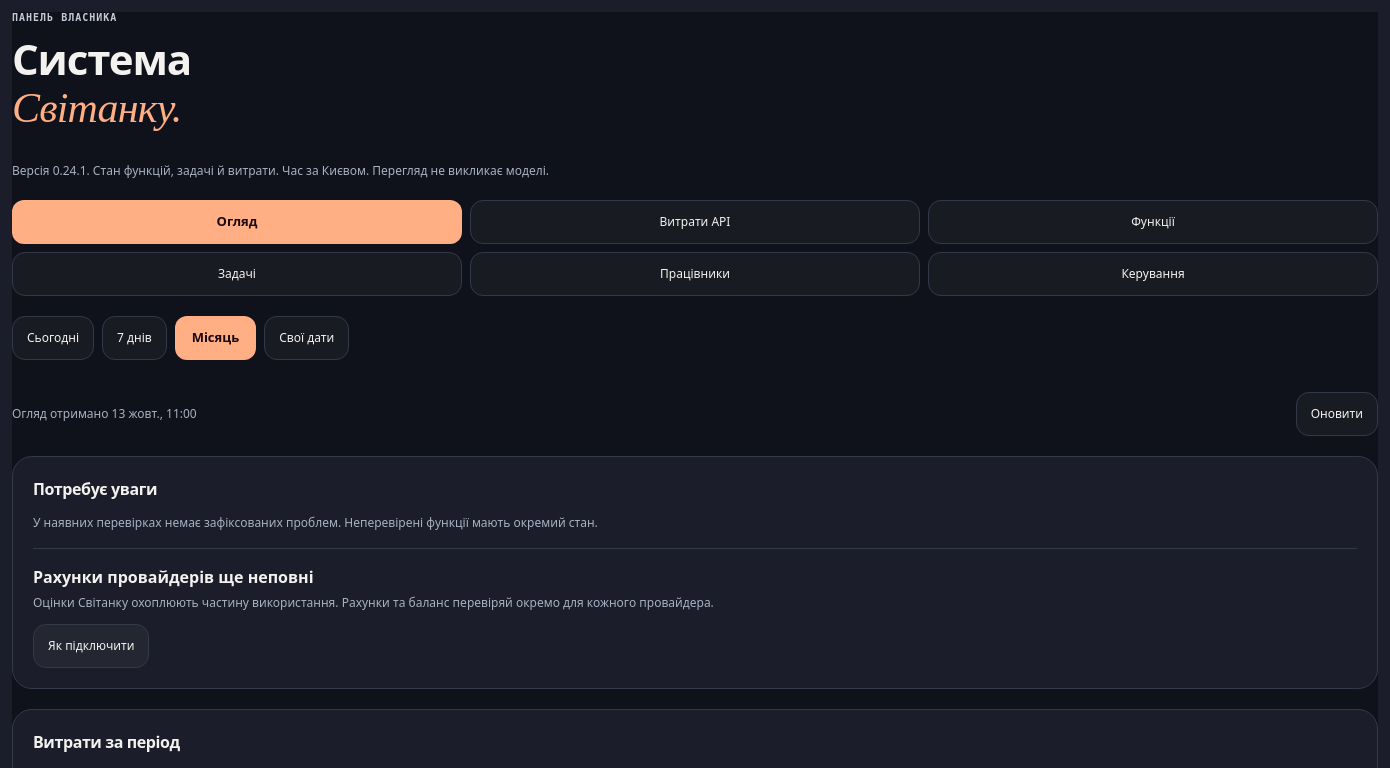
shows unavailable sections and unknown costs without fabricating zero balances
This screenshot has width=1390, height=768.
Click the button "Витрати API" at (695, 222), box [470,200,920,244]
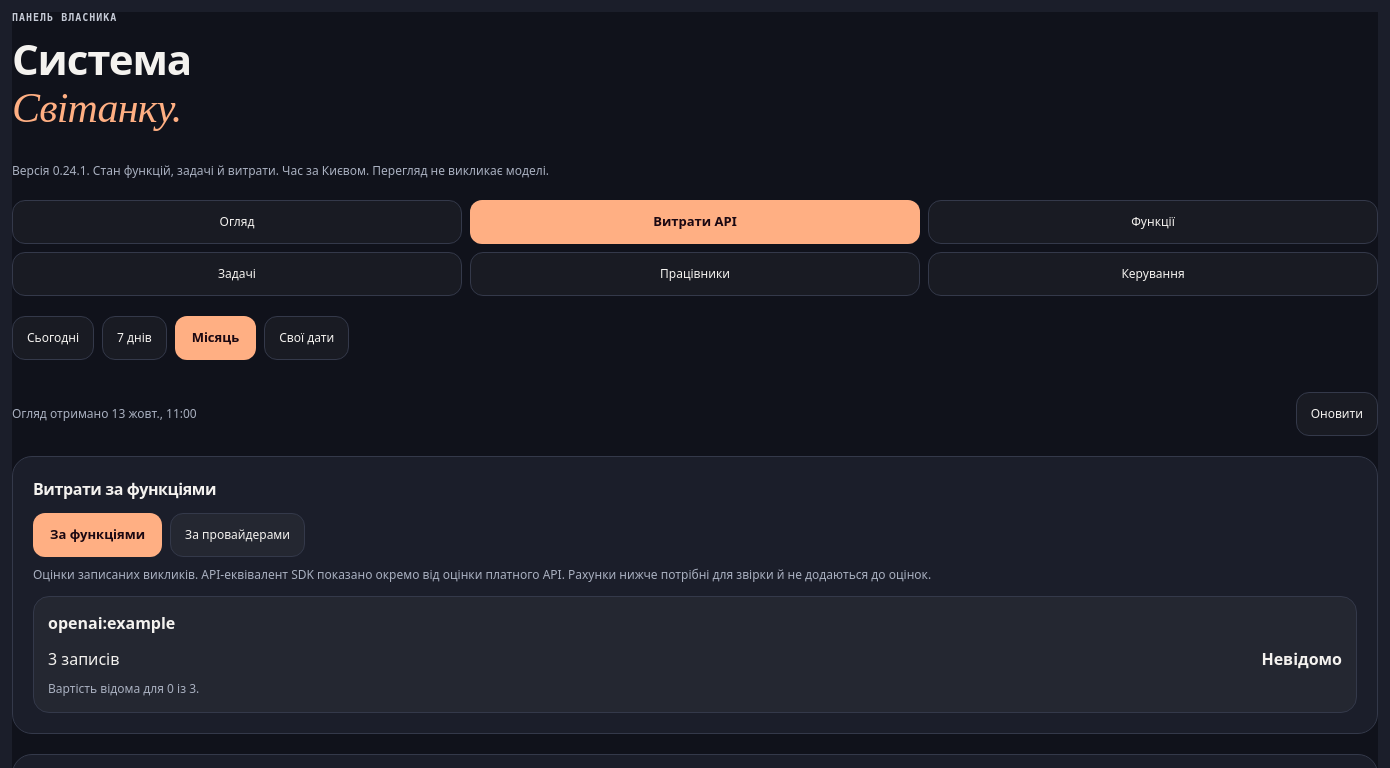
Expected: the text "Невідомо" is shown, [1261,647,1342,671]
Now the text "Вартість відома для 0 із 3." is shown, box [48,680,199,697]
